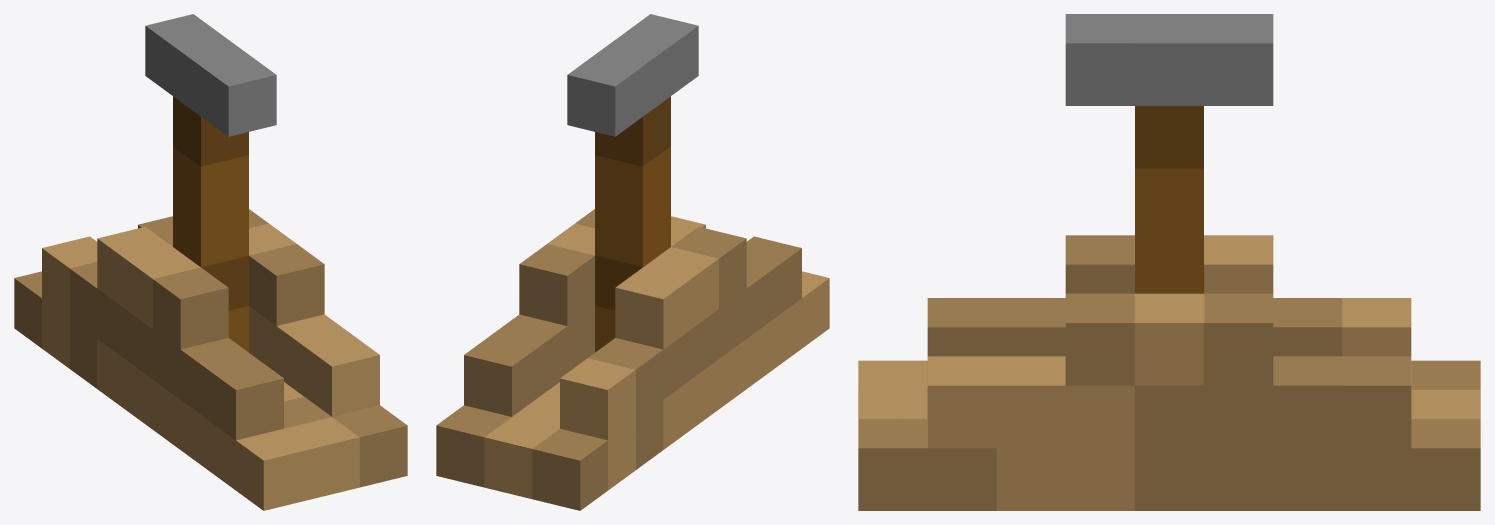
The model's file is Lever_Middle.obj.
The picture shows the model from 3 angles, left to right: view 1: azimuth 30°, elevation 25°; view 2: azimuth 150°, elevation 25°; view 3: azimuth 270°, elevation 25°; orthographic projection. The views are drawn at different scales.
Visible parts, largest first — view 1: Lever_Middle_Lever_Middle.001; view 2: Lever_Middle_Lever_Middle.001; view 3: Lever_Middle_Lever_Middle.001.
Boxes of the visible parts, x1=… form: Lever_Middle_Lever_Middle.001: x1=14, y1=14, x2=407, y2=510; Lever_Middle_Lever_Middle.001: x1=436, y1=14, x2=829, y2=510; Lever_Middle_Lever_Middle.001: x1=858, y1=14, x2=1480, y2=510.
Bounding box in the file's own units: 0.3 × 0.7 × 0.9.
Materials: 1 (1 with a texture image).
